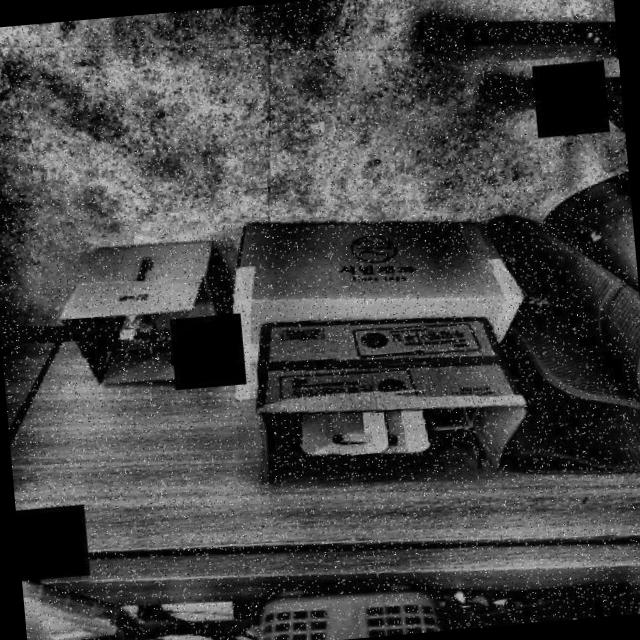box: (218, 190, 553, 506), (48, 233, 225, 408)
